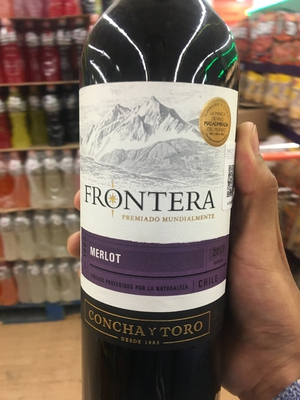frontera merlot: (71, 7, 253, 400)
